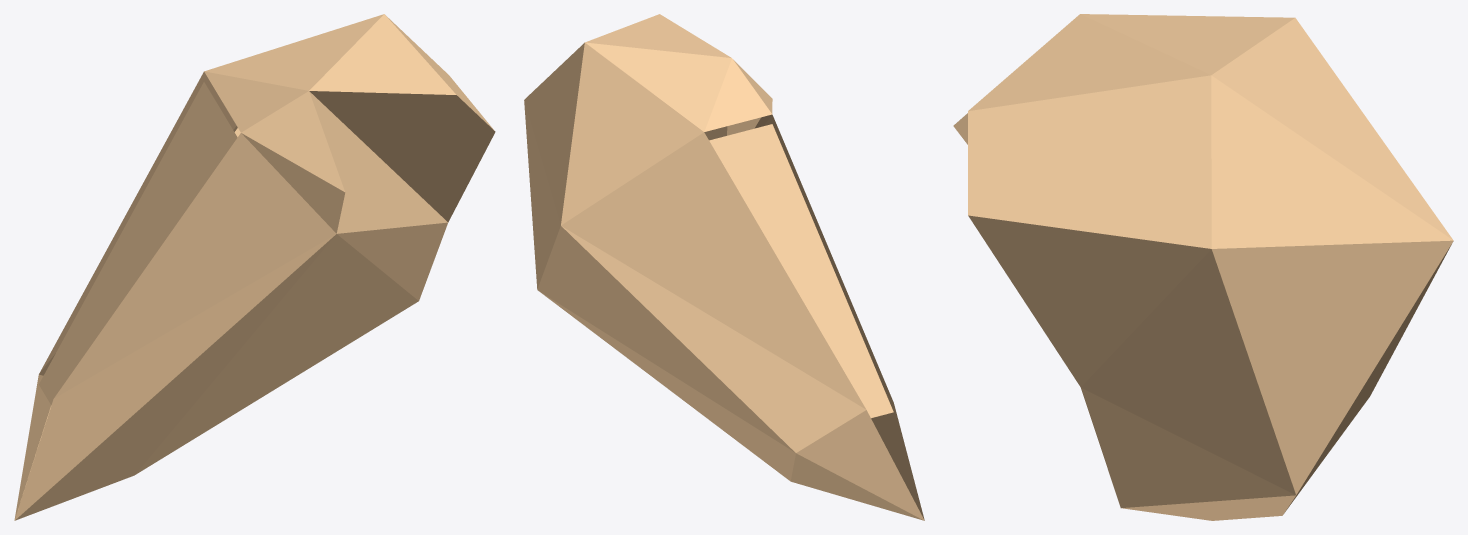
File: Toad_LArm.obj
3 views of the same model, side by side, from view 1: azimuth 30°, elevation 25°; view 2: azimuth 150°, elevation 25°; view 3: azimuth 270°, elevation 25° (orthographic). The views are drawn at different scales.
Parts seen in each view (by area): view 1: Toad_LBrazo; view 2: Toad_LBrazo; view 3: Toad_LBrazo.
Part boxes in pixels (left/top/right/bottom): Toad_LBrazo: left=14, top=14, right=495, bottom=520; Toad_LBrazo: left=524, top=14, right=924, bottom=520; Toad_LBrazo: left=953, top=14, right=1453, bottom=520.
Size of the model in its own units: 0.3766 by 0.35 by 0.2368.
1 material, 1 textured.
